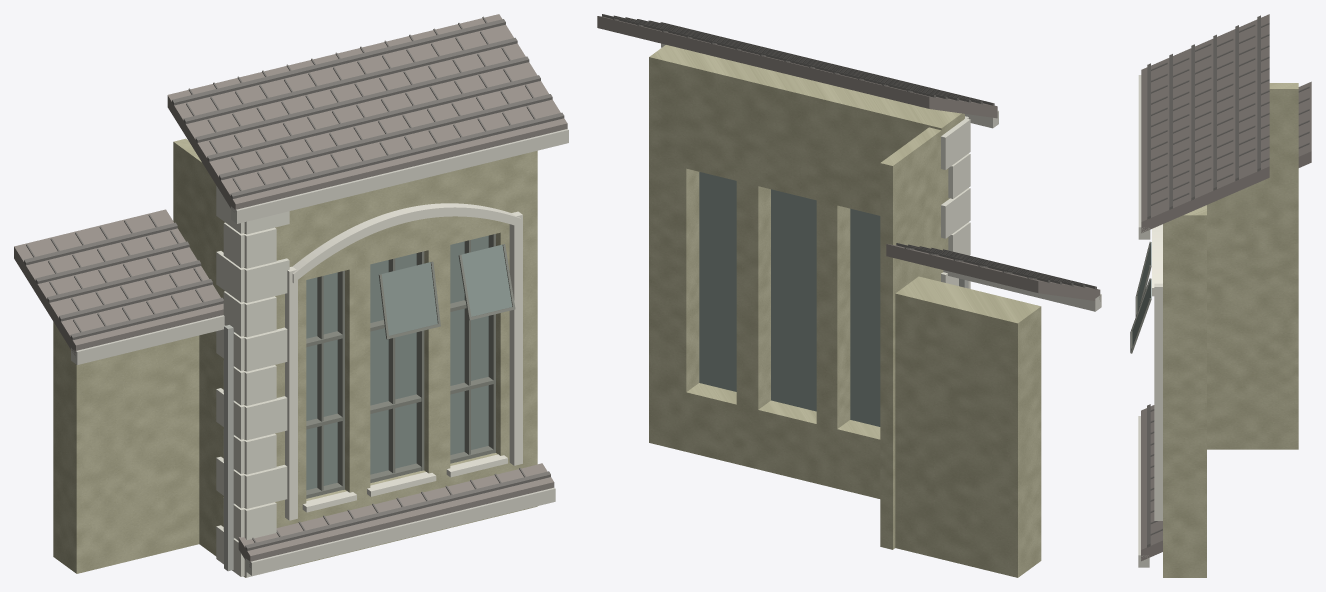
File: yongjia-37-stepped-eaves-triple-window-near.glb
The picture shows the model from 3 angles, left to right: view 1: azimuth 30°, elevation 25°; view 2: azimuth 150°, elevation 25°; view 3: azimuth 270°, elevation 25°; orthographic projection. The views are drawn at different scales.
Parts seen in each view (by area): view 1: 永嘉路37号住宅错层檐口与三联长窗; view 2: 永嘉路37号住宅错层檐口与三联长窗; view 3: 永嘉路37号住宅错层檐口与三联长窗.
Boxes of the visible parts, x1=… form: 永嘉路37号住宅错层檐口与三联长窗: x1=14, y1=14, x2=568, y2=577; 永嘉路37号住宅错层檐口与三联长窗: x1=597, y1=14, x2=1101, y2=577; 永嘉路37号住宅错层檐口与三联长窗: x1=1130, y1=14, x2=1311, y2=577.
Bounding box in the file's own units: 4.8 × 4.44 × 1.73.
Materials: 9 (1 with a texture image).
